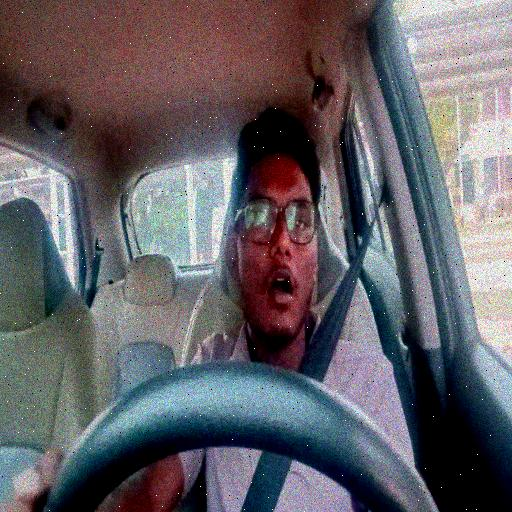yawns: (230, 112, 327, 350)
